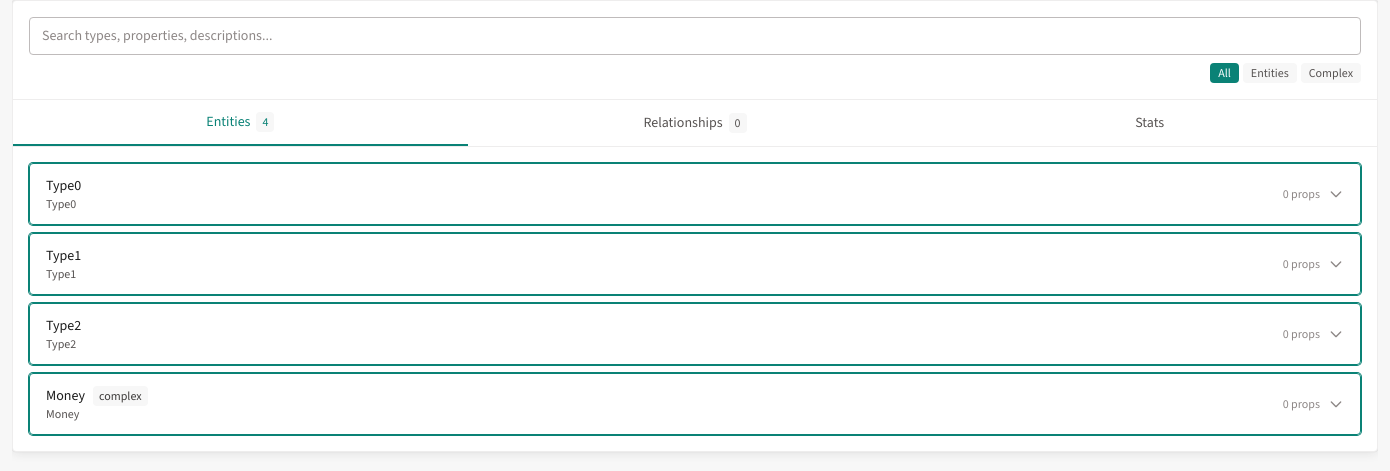
it: MetadataExplorer search › adjusts the denominator when a kind filter is active
This screenshot has width=1390, height=471.
Type "Type" into the field named "Search metadata".
click(695, 36); type("Type")  # box [29,17,1361,55]
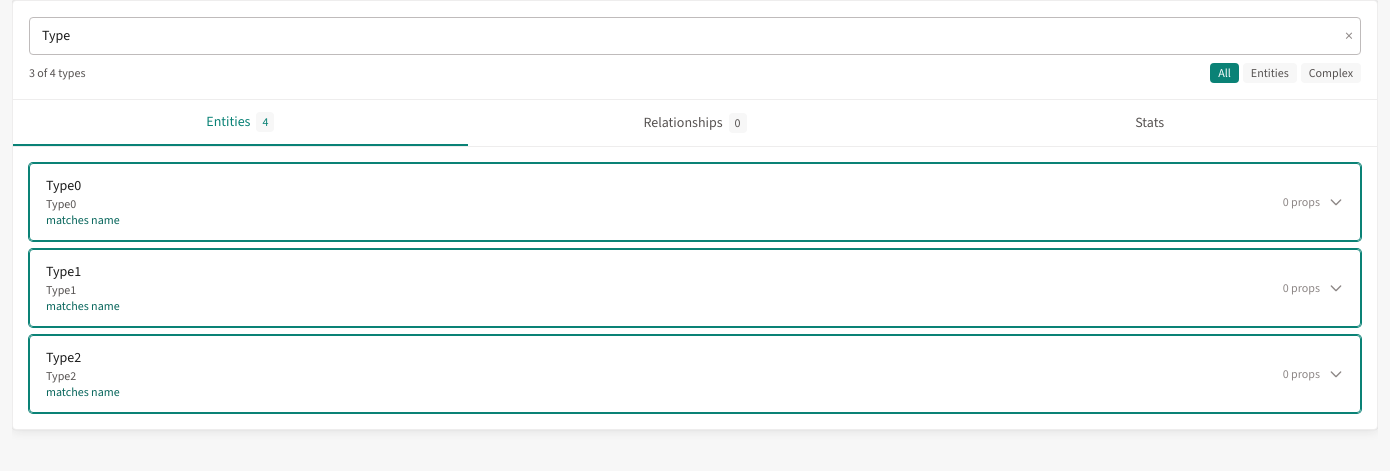
Check: the text "3 of 4 types" is shown, box [29,65,85,81]
Click the button "Complex".
click(1331, 73)  # box [1301,63,1361,83]
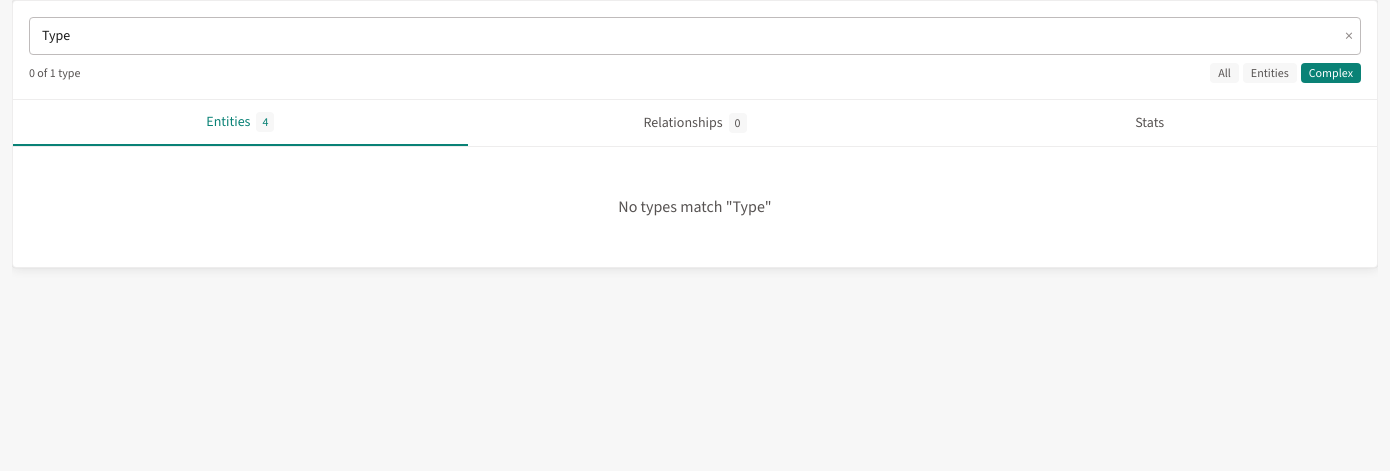
Check: the text "0 of 1 type" is shown, box [29,65,80,81]
Click the button named "Clear search".
click(1349, 36)  # box [1345,24,1353,48]
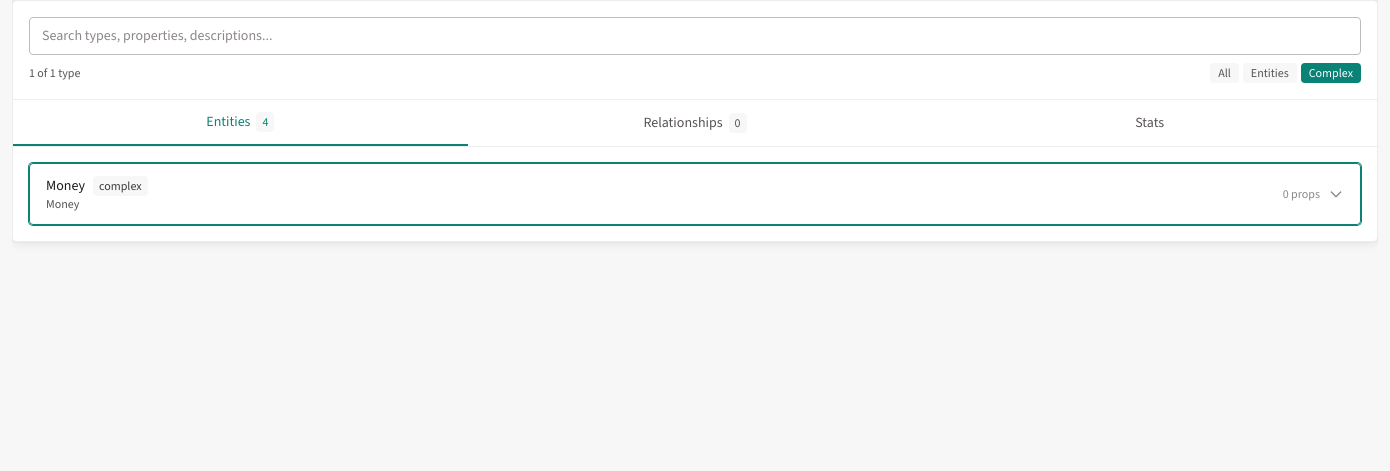
Check: the text "1 of 1 type" is shown, box [29,65,80,81]
